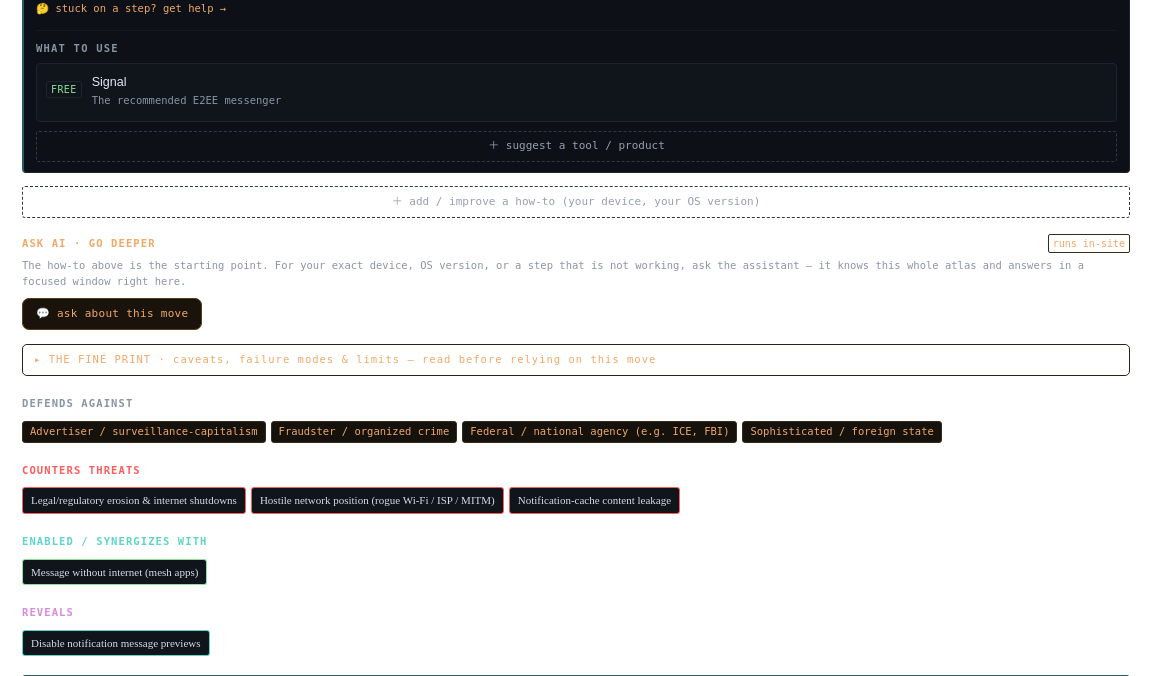
Test case: Detail (MOVE): fine-print collapses; click expands caveat text
(page scrolled)
# Click the toggle button
Click the button "FINE PRINT".
click(576, 360)  # box left=22, top=344, right=1130, bottom=376
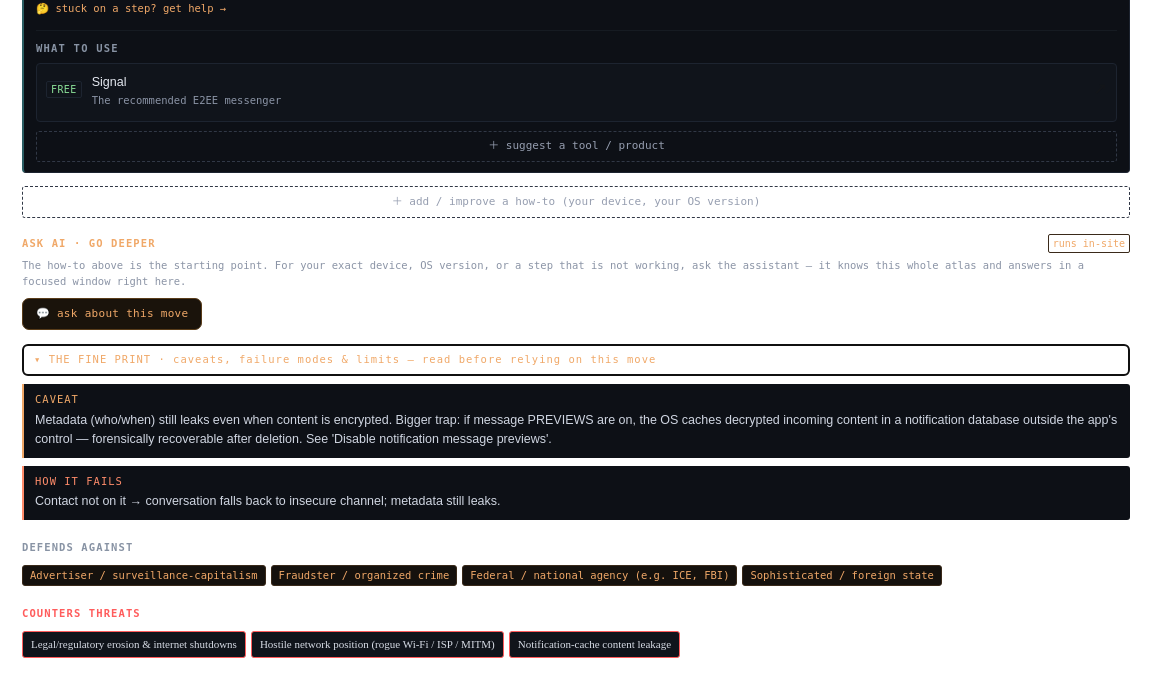
Now the text "Metadata (who/when) still leaks even when content is encrypted. Bigger trap: if message PREVIEWS are on, the OS caches d" is shown, box left=35, top=413, right=1117, bottom=446
